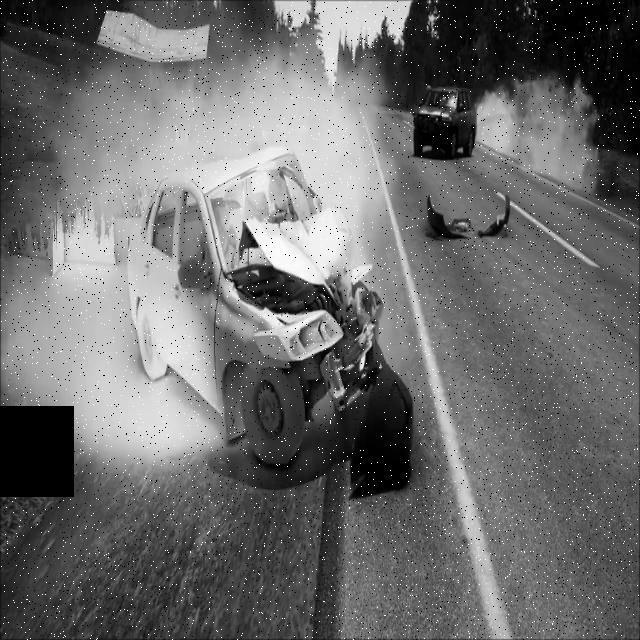multiple_accident: (98, 98, 462, 485)
